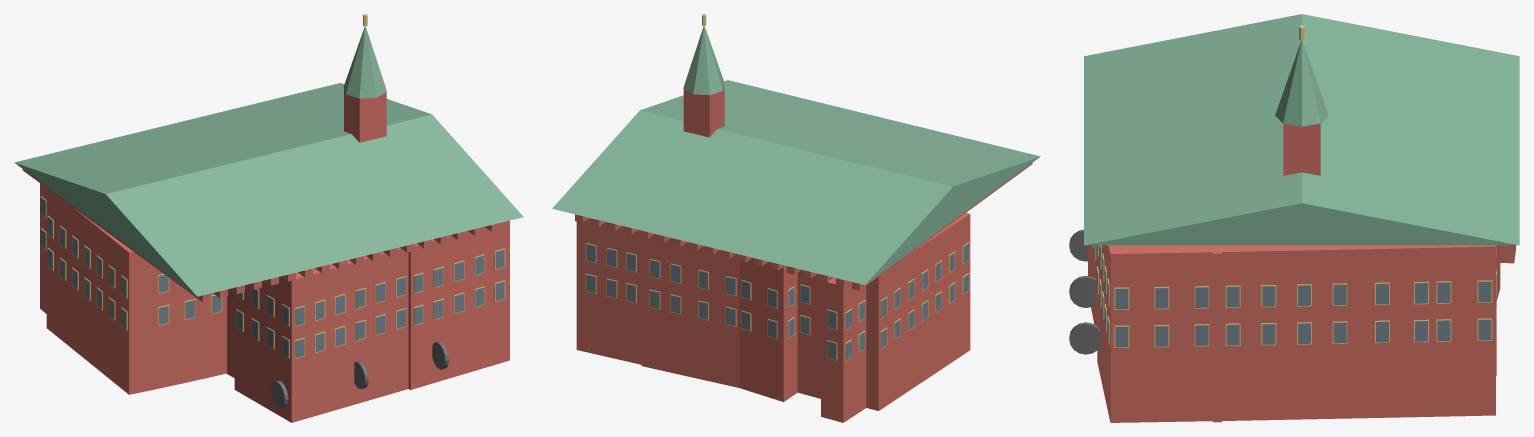
The model's file is basel-rathaus.glb.
The picture shows the model from 3 angles, left to right: view 1: azimuth 30°, elevation 25°; view 2: azimuth 150°, elevation 25°; view 3: azimuth 270°, elevation 25°; orthographic projection. The views are drawn at different scales.
Visible parts, largest first — view 1: building; view 2: building; view 3: building.
Part boxes in pixels (<box>): building: <box>14,14,523,422</box>; building: <box>552,14,1040,422</box>; building: <box>1069,14,1519,422</box>.
Bounding box in the file's own units: 48.05 × 42.5 × 48.34.
